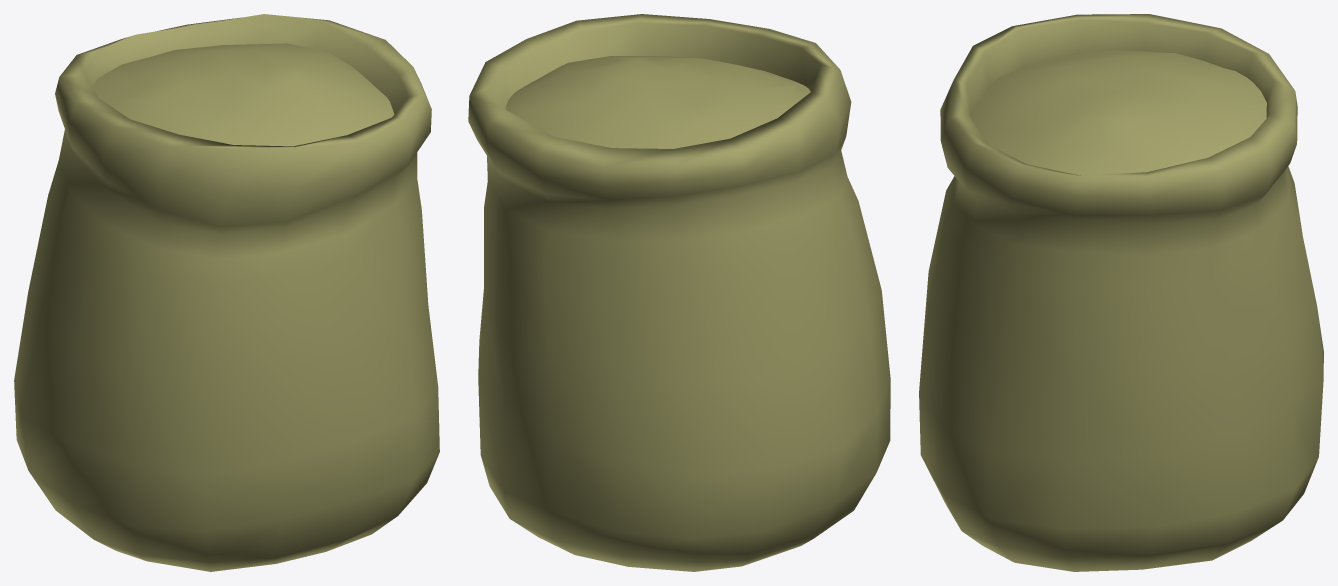
File: Bag_01_Lod0.fbx
3 renders of one model, left to right at view 1: azimuth 30°, elevation 25°; view 2: azimuth 150°, elevation 25°; view 3: azimuth 270°, elevation 25°, orthographic.
Parts seen in each view (by area): view 1: Bag_01_Lod0; view 2: Bag_01_Lod0; view 3: Bag_01_Lod0.
Part boxes in pixels (x1,y1,x2,y2): Bag_01_Lod0: [14, 14, 439, 571]; Bag_01_Lod0: [468, 14, 890, 571]; Bag_01_Lod0: [919, 14, 1323, 571].
Bounding box in the file's own units: 47.86 × 55.34 × 45.88.
